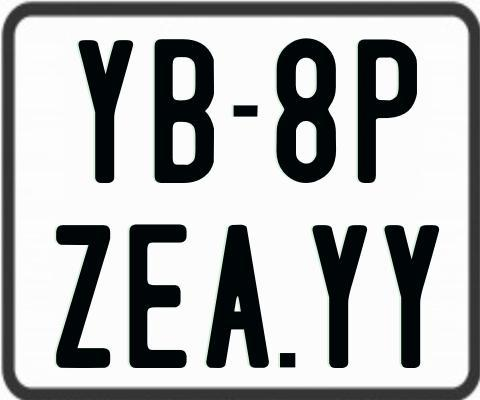8: (274, 36, 336, 183)
A: (205, 222, 274, 367)
B: (153, 36, 212, 185)
E: (127, 221, 189, 366)
P: (355, 37, 416, 181)
Y: (311, 224, 368, 368), (75, 38, 131, 182), (381, 223, 436, 369)
Z: (54, 224, 112, 371)
